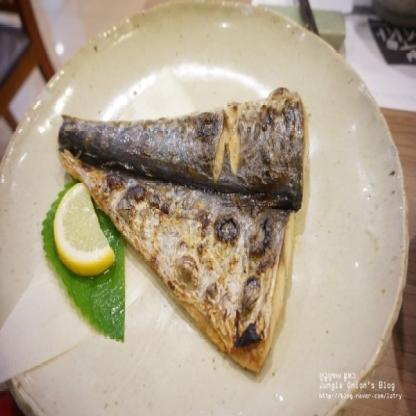Peixe: (32, 68, 328, 376)
